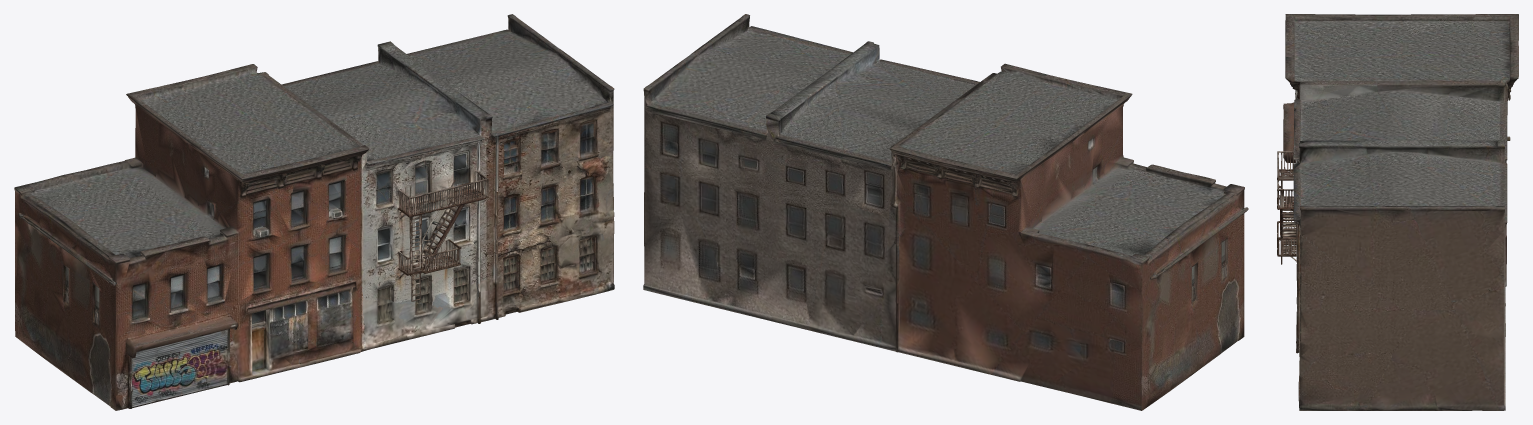
File: row_four_hq.glb
The picture shows the model from 3 angles, left to right: view 1: azimuth 30°, elevation 25°; view 2: azimuth 150°, elevation 25°; view 3: azimuth 270°, elevation 25°; orthographic projection.
Parts seen in each view (by area): view 1: mesh_node; view 2: mesh_node; view 3: mesh_node.
Boxes of the visible parts, x1,y1,x2,y2 form: mesh_node: (14, 14, 614, 410); mesh_node: (643, 14, 1248, 410); mesh_node: (1277, 14, 1518, 410).
Bounding box in the file's own units: 40.33 × 16 × 16.66.
Materials: 1 (1 with a texture image).
